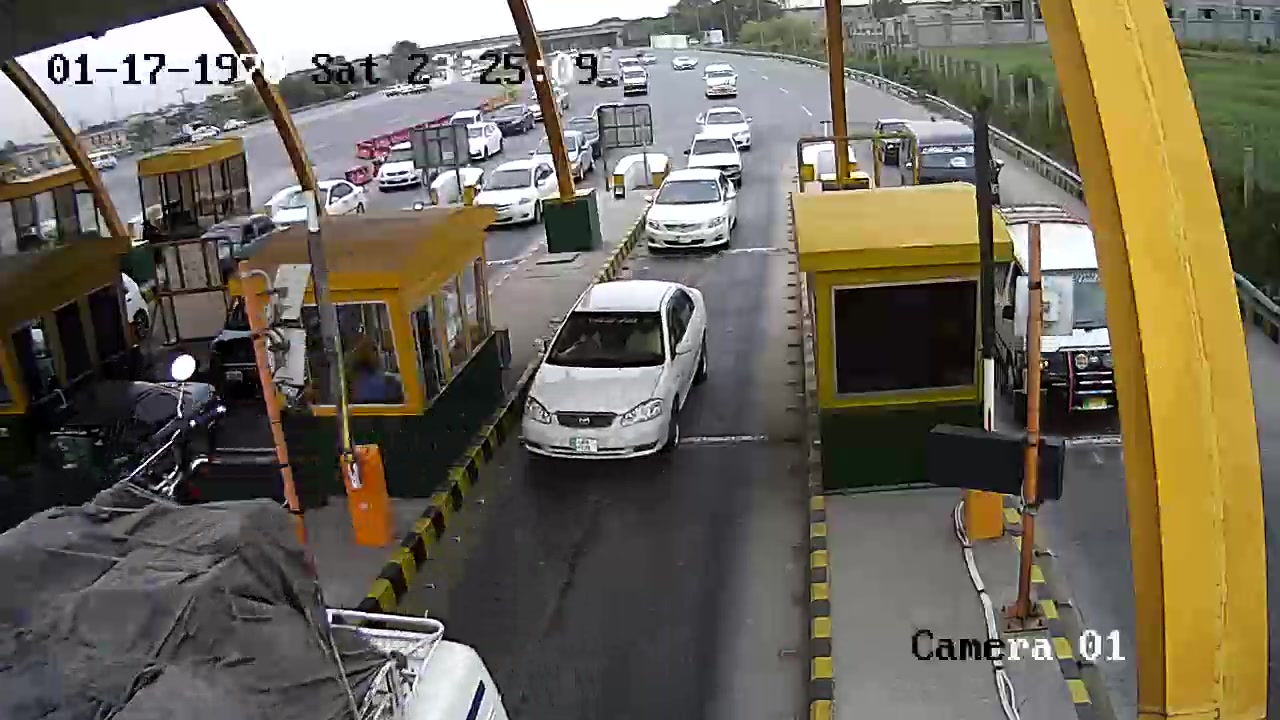F1: (515, 267, 725, 478)
